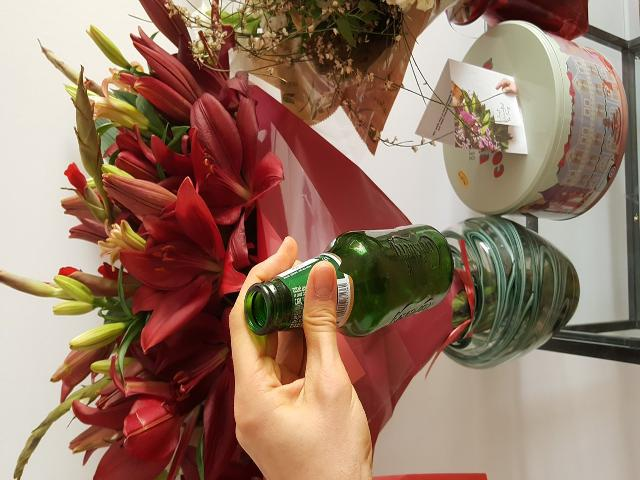beer: (245, 223, 452, 337)
